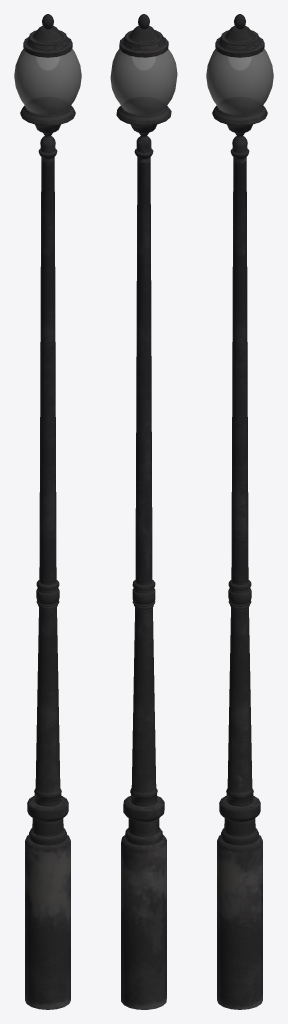
File: lampPost.glb
3 renders of one model, left to right at view 1: azimuth 90°, elevation 25°; view 2: azimuth 210°, elevation 25°; view 3: azimuth 270°, elevation 25°, orthographic.
Parts seen in each view (by area): view 1: SM_lamp_post.002, SM_lamp_glass.002, SM_lamp_tip.001; view 2: SM_lamp_post.002, SM_lamp_glass.002, SM_lamp_tip.001; view 3: SM_lamp_post.002, SM_lamp_glass.002, SM_lamp_tip.001.
Boxes of the visible parts, x1,y1,x2,y2 form: SM_lamp_post.002: (20, 105, 75, 1009); SM_lamp_glass.002: (14, 48, 81, 115); SM_lamp_tip.001: (23, 14, 72, 57); SM_lamp_post.002: (116, 106, 171, 1009); SM_lamp_glass.002: (110, 48, 177, 115); SM_lamp_tip.001: (119, 14, 168, 57); SM_lamp_post.002: (212, 105, 267, 1009); SM_lamp_glass.002: (206, 48, 273, 115); SM_lamp_tip.001: (215, 14, 264, 57).
Size of the model in its own units: 57.82 by 930 by 57.82.
2 materials, 2 textured.
